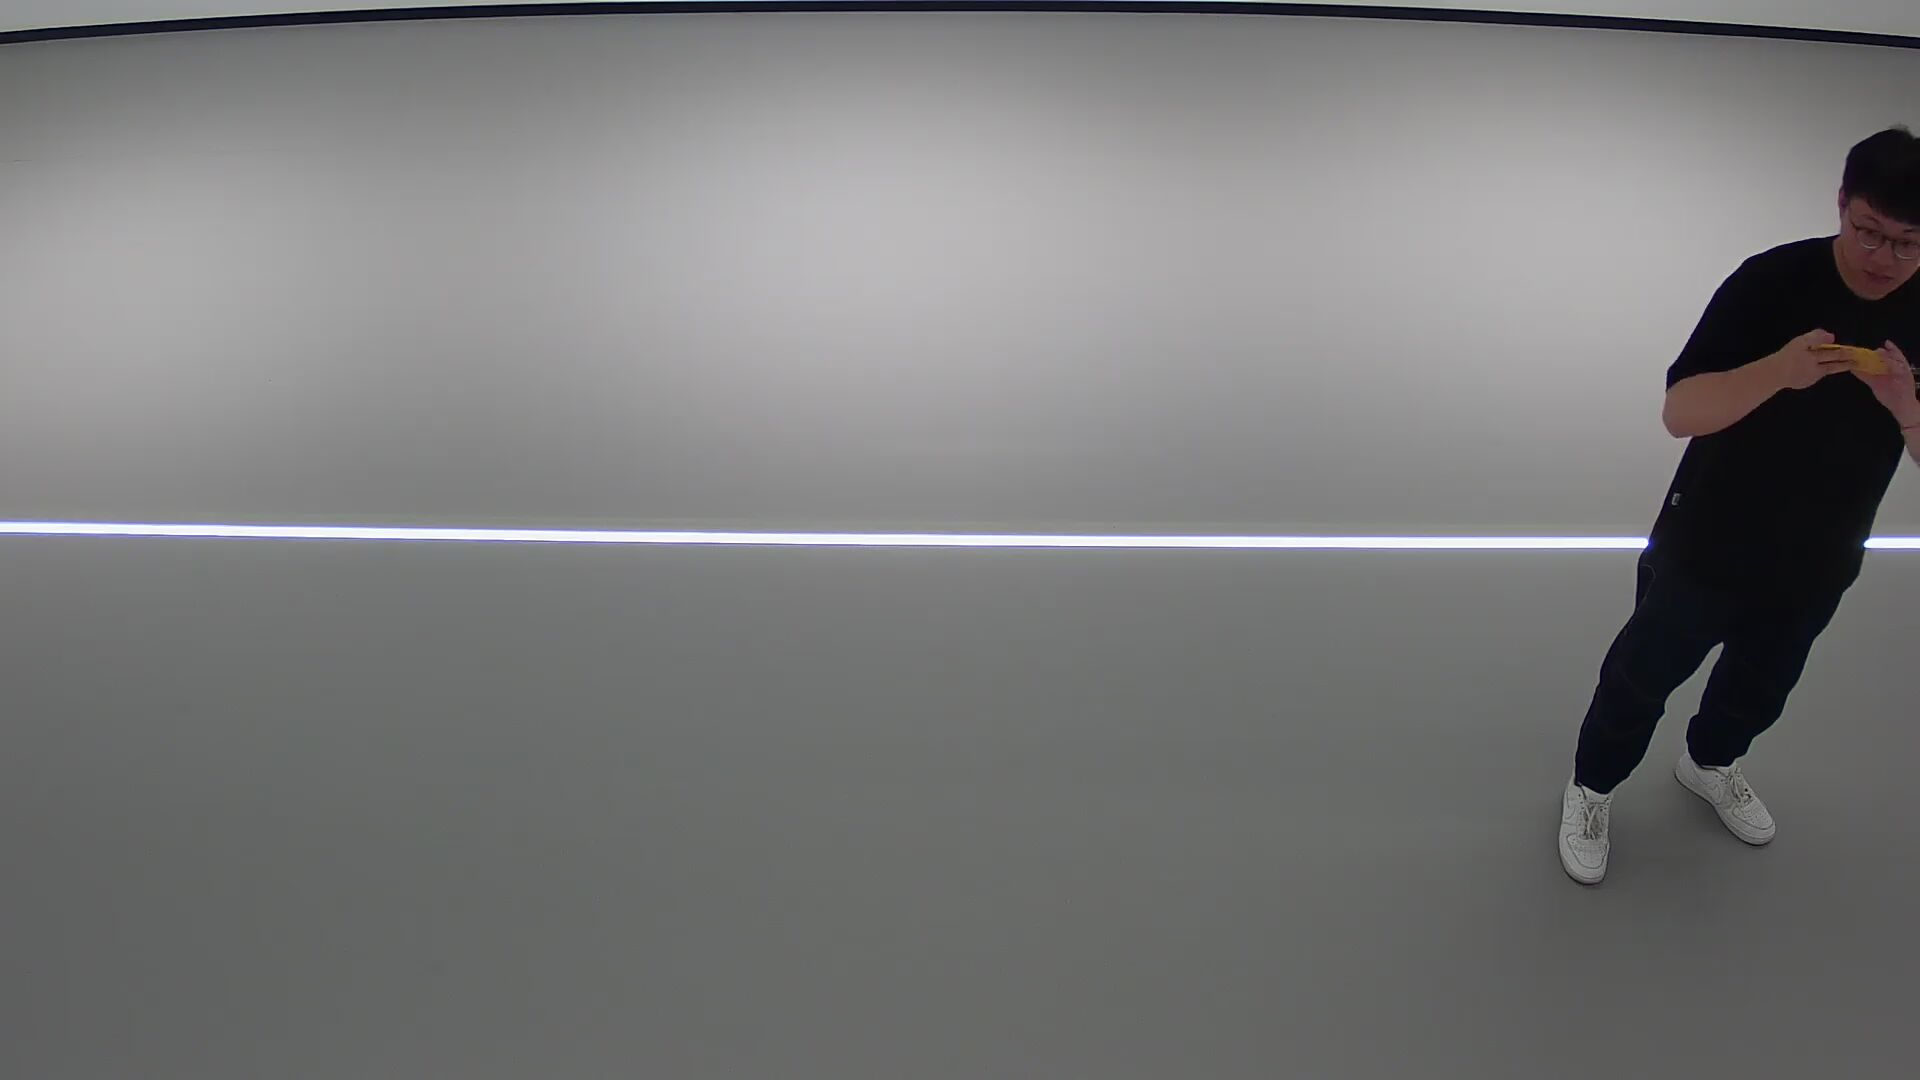normal: (1549, 121, 1920, 899)
